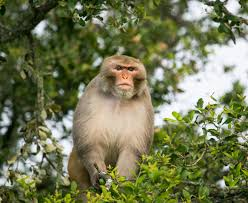monkey: (73, 34, 170, 203)
